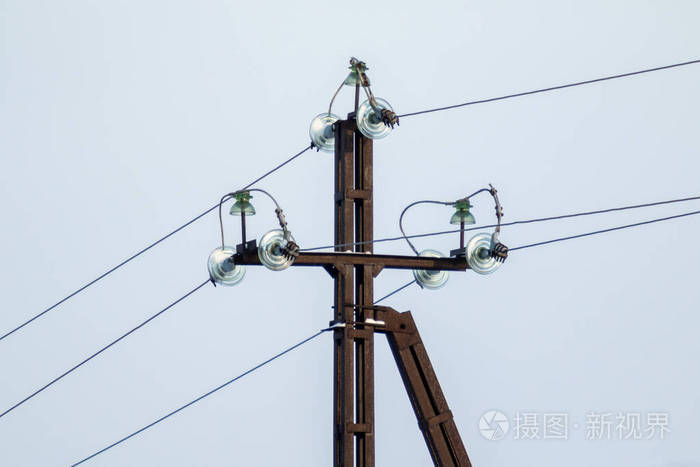insulator: (465, 233, 506, 277), (412, 246, 449, 292), (203, 249, 244, 289), (257, 230, 297, 271), (356, 99, 391, 141), (308, 111, 337, 151)
